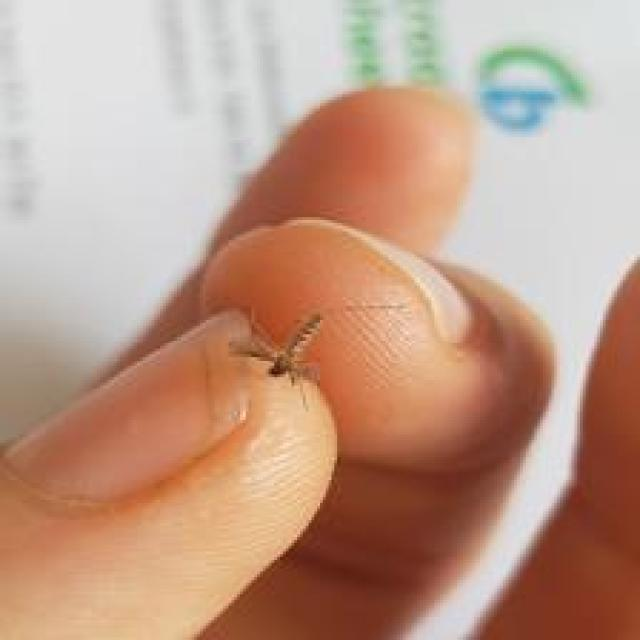Culex: (228, 308, 326, 412)
